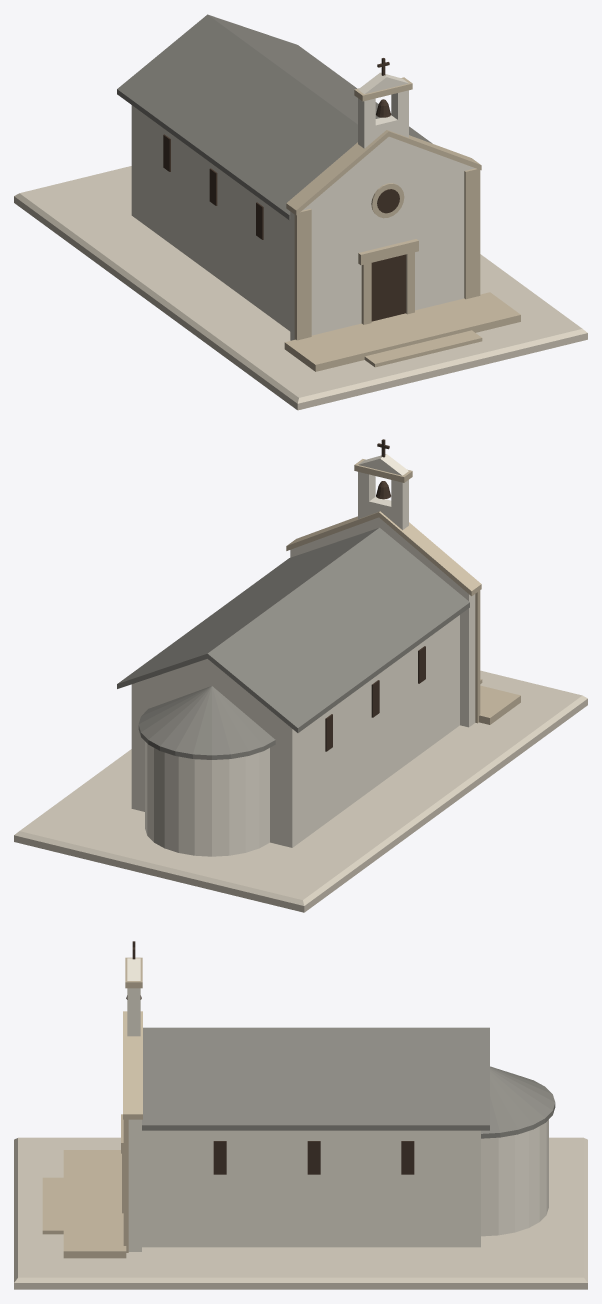
The model's file is modello.glb.
3 views of the same model, one above another, from view 1: azimuth 30°, elevation 25°; view 2: azimuth 150°, elevation 25°; view 3: azimuth 270°, elevation 25° (orthographic).
Parts seen in each view (by area): view 1: Chiesetta Rurale; view 2: Chiesetta Rurale; view 3: Chiesetta Rurale.
Boxes of the visible parts, <box> form: Chiesetta Rurale: <box>14,14,587,410</box>; Chiesetta Rurale: <box>14,439,587,912</box>; Chiesetta Rurale: <box>14,941,587,1289</box>.
Size of the model in its own units: 0.1891 by 0.17 by 0.32.
